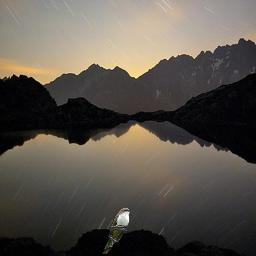Cuckoo: (102, 207, 131, 254)
